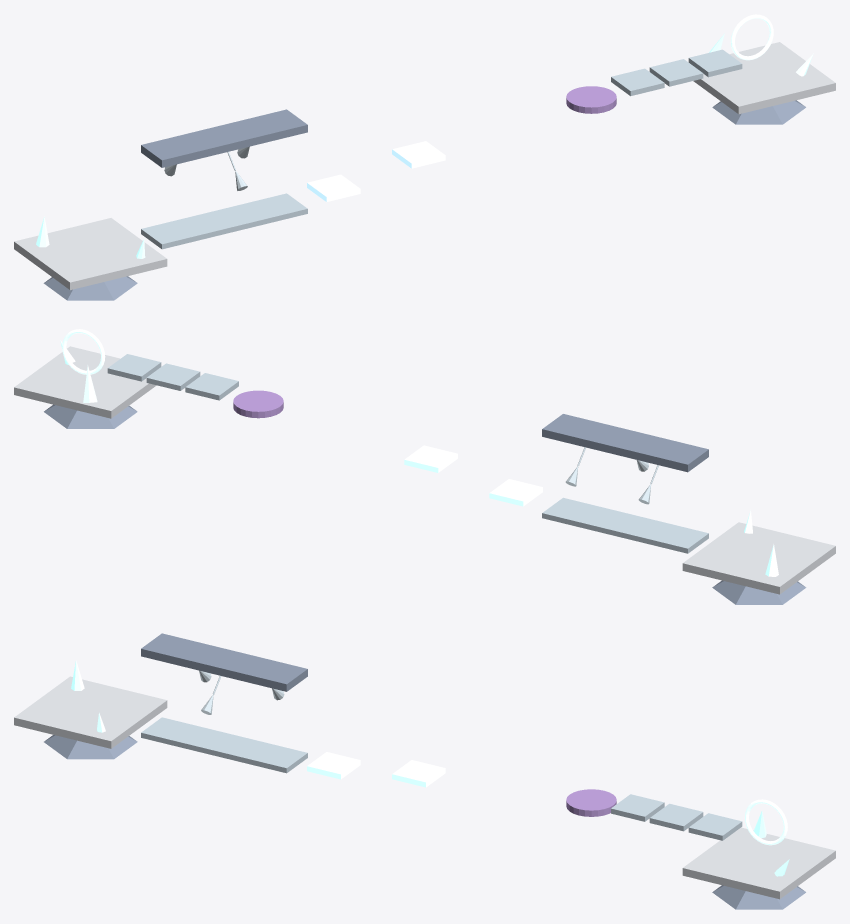
Rendered from eishoehle_stage.glb.
3 views of the same model, one above another, from view 1: azimuth 30°, elevation 25°; view 2: azimuth 150°, elevation 25°; view 3: azimuth 330°, elevation 25° (orthographic).
Parts seen in each view (by area): view 1: EisStart, EisZiel, EisDecke, EisBahn, EisStartSockel, EisZielSockel, EisKreisend, EisBlink1, EisFallplatte1, EisFallplatte2, EisFallplatte3, EisBlink3 (+1 smaller); view 2: EisStart, EisZiel, EisDecke, EisBahn, EisStartSockel, EisZielSockel, EisKreisend, EisBlink1, EisBlink3, EisFallplatte1, EisFallplatte3, EisFallplatte2 (+1 smaller); view 3: EisStart, EisZiel, EisDecke, EisBahn, EisStartSockel, EisZielSockel, EisKreisend, EisFallplatte3, EisBlink1, EisFallplatte2, EisBlink3, EisFallplatte1 (+1 smaller).
Boxes of the visible parts, bbox=[...] form: EisStart: bbox=[14, 218, 167, 290]; EisZiel: bbox=[693, 42, 835, 114]; EisDecke: bbox=[141, 109, 307, 167]; EisBahn: bbox=[141, 193, 307, 249]; EisStartSockel: bbox=[43, 276, 137, 300]; EisZielSockel: bbox=[712, 100, 805, 124]; EisKreisend: bbox=[566, 86, 616, 113]; EisBlink1: bbox=[307, 174, 360, 201]; EisFallplatte1: bbox=[611, 68, 664, 96]; EisFallplatte2: bbox=[649, 59, 703, 86]; EisFallplatte3: bbox=[688, 49, 742, 77]; EisBlink3: bbox=[392, 141, 445, 168]; EisStart: bbox=[682, 522, 835, 594]; EisZiel: bbox=[14, 346, 156, 418]; EisDecke: bbox=[542, 414, 708, 472]; EisBahn: bbox=[542, 497, 708, 553]; EisStartSockel: bbox=[712, 580, 806, 604]; EisZielSockel: bbox=[44, 404, 137, 428]; EisKreisend: bbox=[233, 390, 283, 418]; EisBlink1: bbox=[489, 479, 542, 506]; EisBlink3: bbox=[404, 445, 457, 472]; EisFallplatte1: bbox=[185, 373, 238, 400]; EisFallplatte3: bbox=[107, 354, 161, 381]; EisFallplatte2: bbox=[146, 363, 200, 390]; EisStart: bbox=[14, 676, 167, 748]; EisZiel: bbox=[682, 827, 835, 899]; EisDecke: bbox=[141, 633, 307, 691]; EisBahn: bbox=[141, 717, 307, 773]; EisStartSockel: bbox=[44, 735, 137, 759]; EisZielSockel: bbox=[712, 885, 805, 909]; EisKreisend: bbox=[566, 789, 616, 816]; EisFallplatte3: bbox=[688, 813, 742, 840]; EisBlink1: bbox=[307, 752, 360, 779]; EisFallplatte2: bbox=[649, 803, 703, 831]; EisBlink3: bbox=[392, 760, 445, 787]; EisFallplatte1: bbox=[611, 794, 664, 821].
Size of the model in its own units: 63 by 9.1 by 8.
